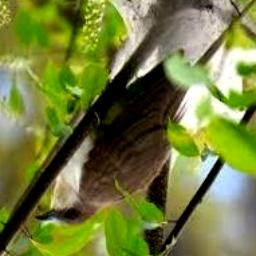Cuckoo: (35, 0, 256, 227)
